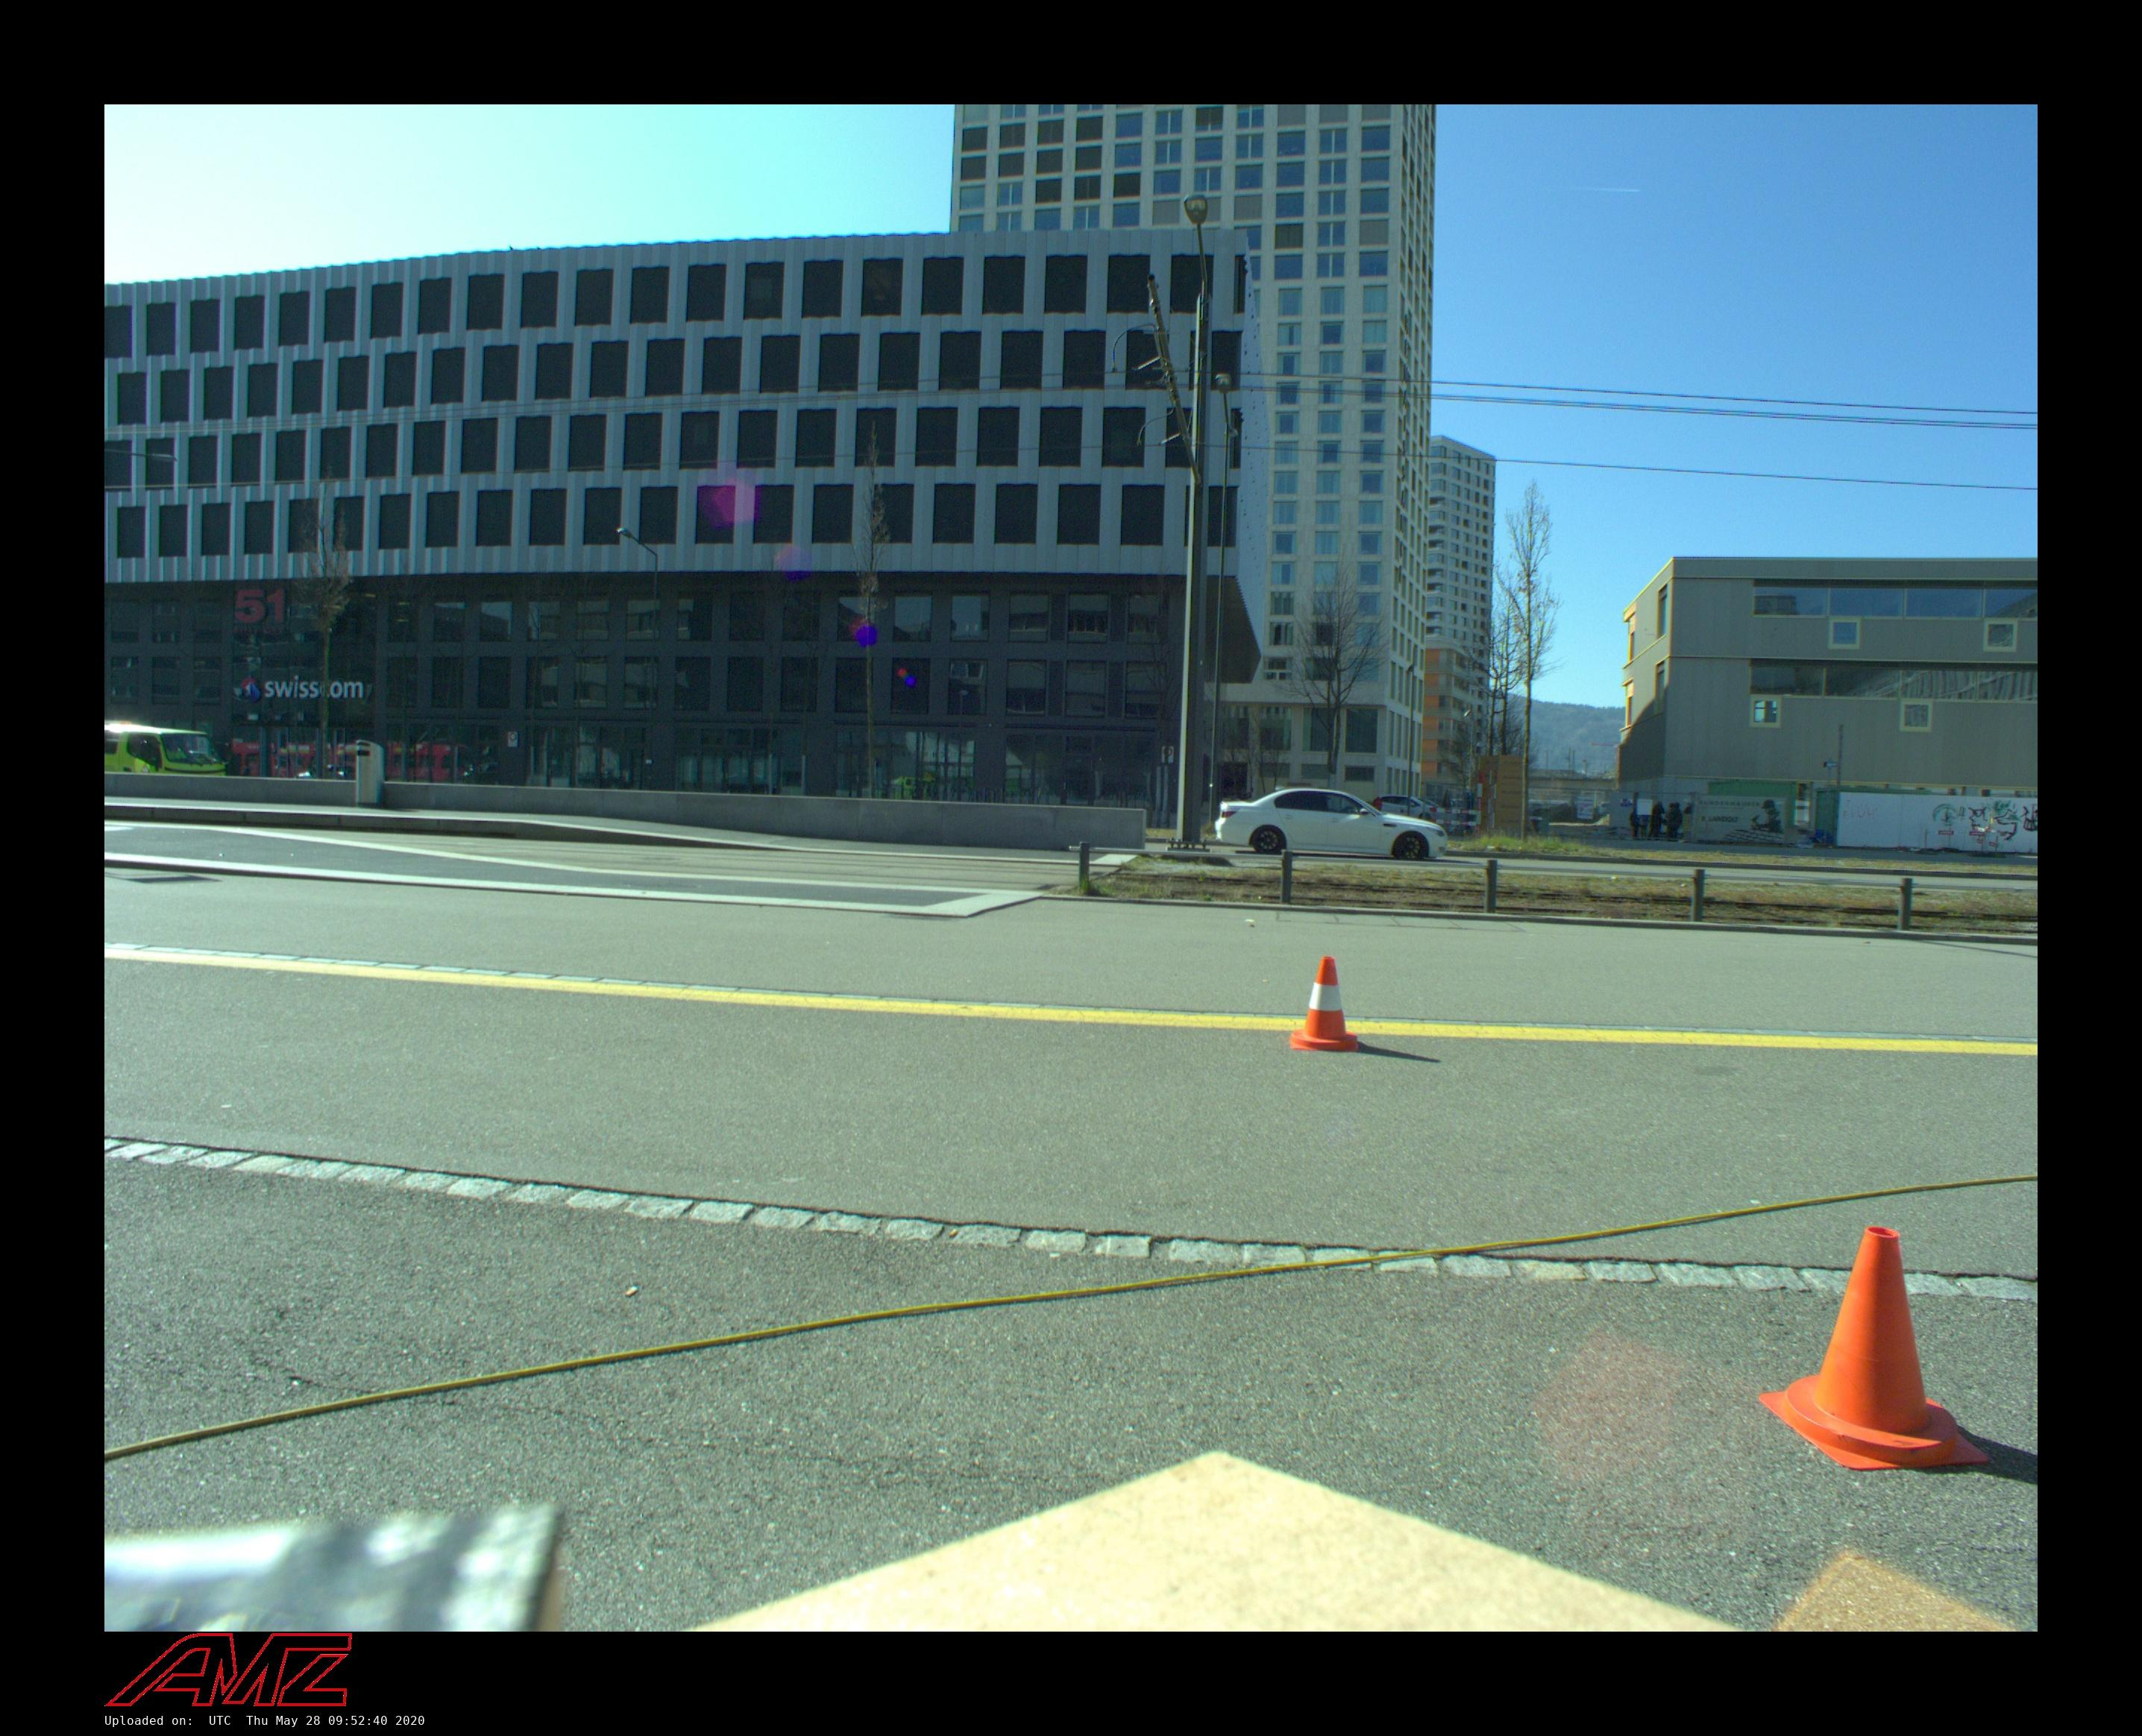orange_cone: (1758, 1226, 1988, 1470), (1290, 957, 1359, 1052)
